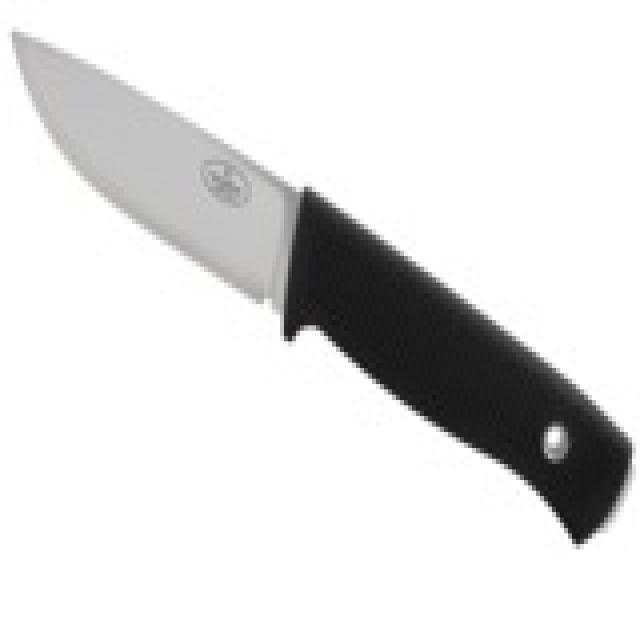Knife: (6, 12, 636, 567)
